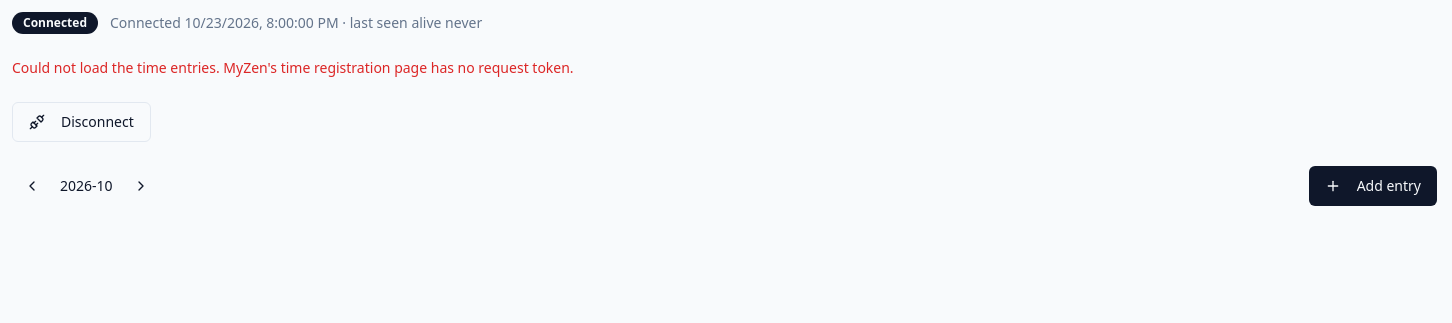
Test case: MyZenPanel › shows the API's reason when the entries do not load, and clears it once a month loads
Expected: the text "Could not load the time entries. MyZen's time registration page has no request token." is shown, left=12, top=58, right=574, bottom=77
Step 1. Click the button named "Previous month" → (32, 186), box left=12, top=166, right=52, bottom=206
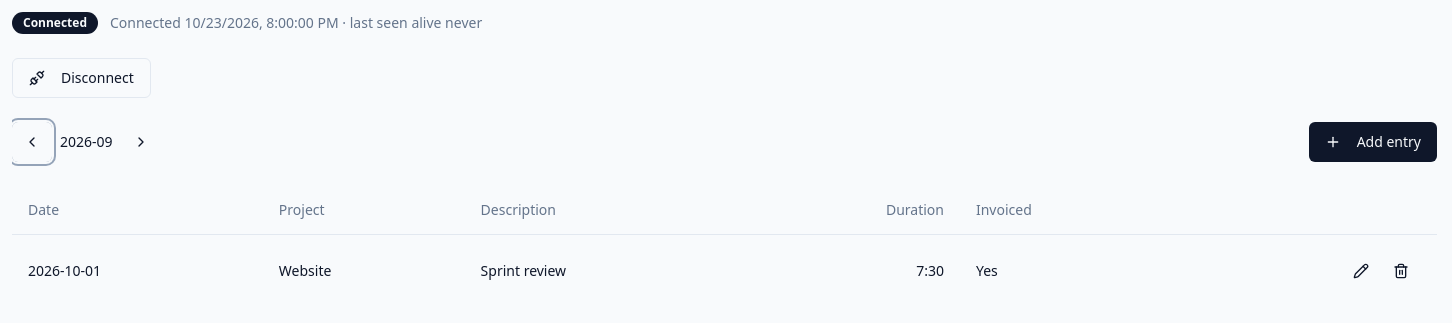
Result: the text "Sprint review" is shown at left=465, top=234, right=745, bottom=306
Result: the text "Could not load the time entries" is gone
